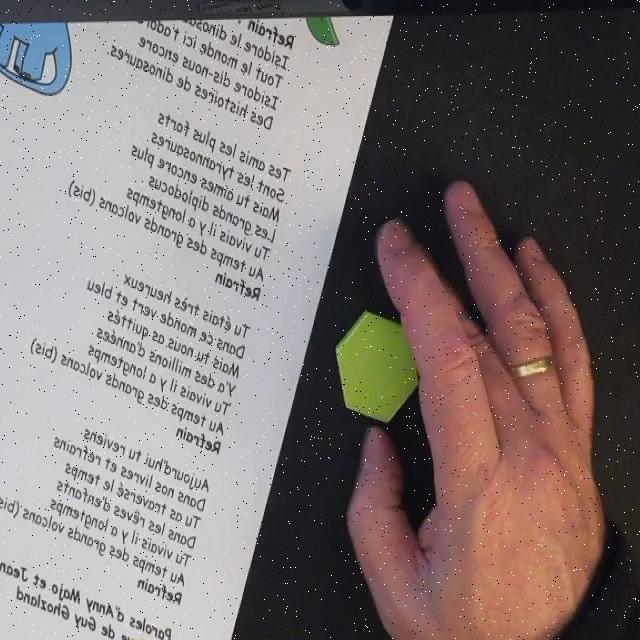hexagon: (334, 308, 422, 425)
